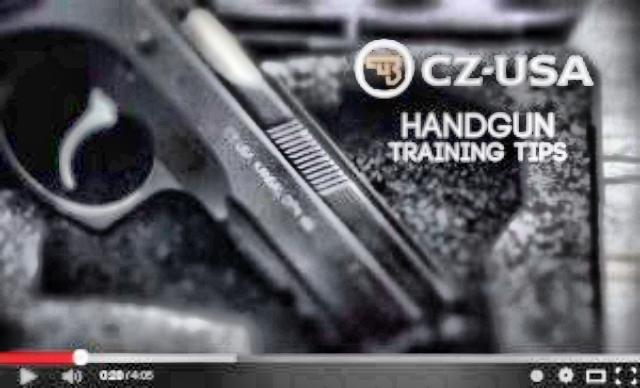pistol: (1, 1, 472, 346)
